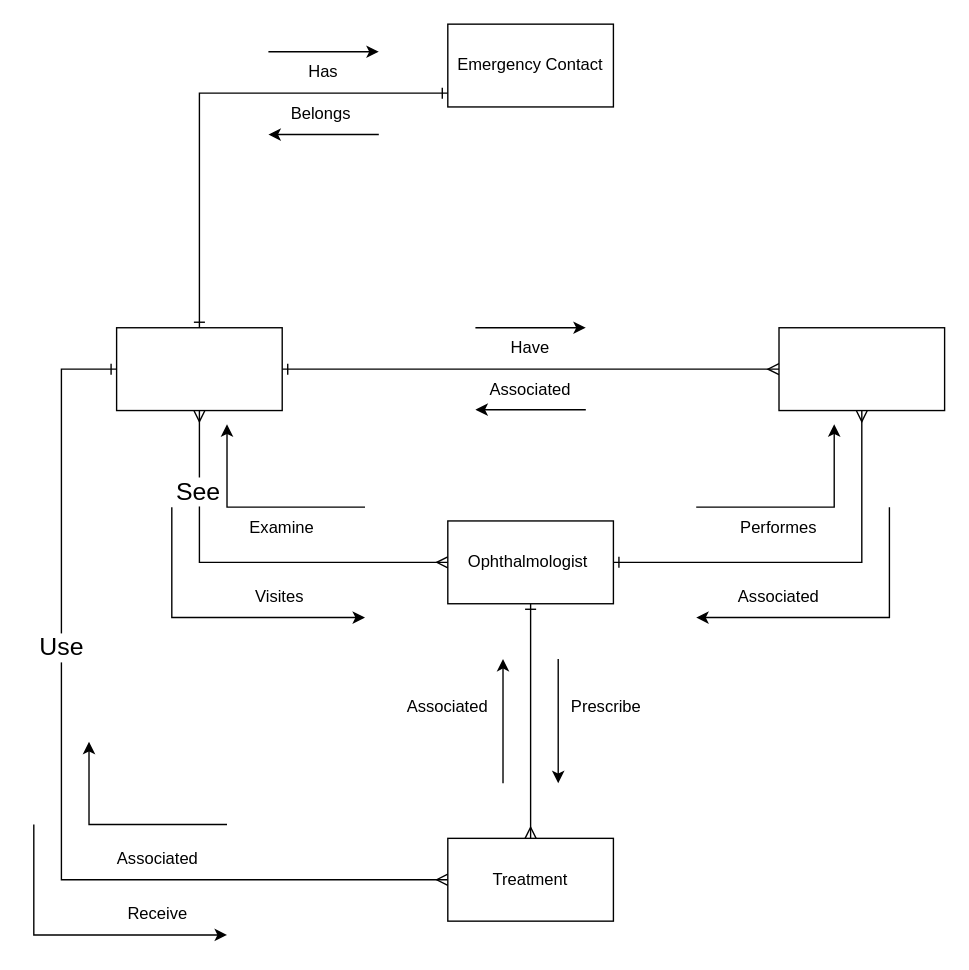
Image size: 969x970. Some labels were removed from this diagram. The shapes that lost their labels are listed below. From the top down, each one's centre as x and y in pixels, then its label:
At point 198,368: "Patient".
At point 861,368: "Eye Examination".
